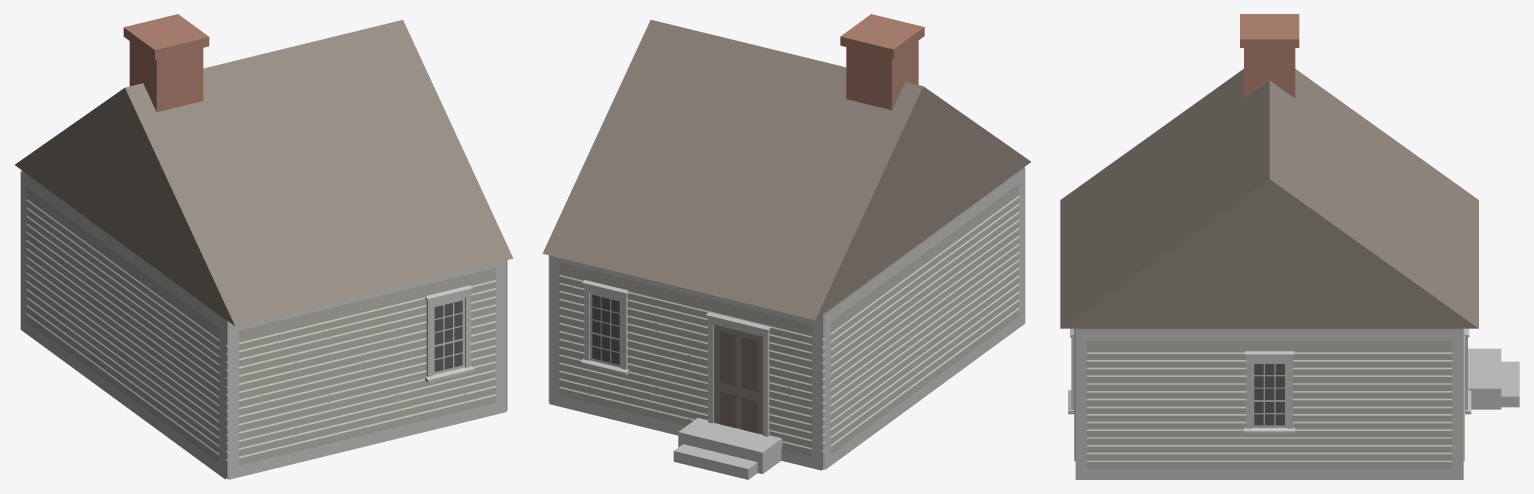
The model's file is recon_1835_blk_school_section_tier_118_d3_05__inferred_1835.glb.
3 renders of one model, left to right at view 1: azimuth 30°, elevation 25°; view 2: azimuth 150°, elevation 25°; view 3: azimuth 270°, elevation 25°, orthographic. The views are drawn at different scales.
Parts seen in each view (by area): view 1: recon_1835_blk_school_section_tier_118_d3_05__inferred_1835; view 2: recon_1835_blk_school_section_tier_118_d3_05__inferred_1835; view 3: recon_1835_blk_school_section_tier_118_d3_05__inferred_1835.
Part boxes in pixels (<box>): recon_1835_blk_school_section_tier_118_d3_05__inferred_1835: <box>15,14,513,479</box>; recon_1835_blk_school_section_tier_118_d3_05__inferred_1835: <box>542,14,1030,479</box>; recon_1835_blk_school_section_tier_118_d3_05__inferred_1835: <box>1060,14,1519,479</box>.
Size of the model in its own units: 5.16 by 6.23 by 7.56.
